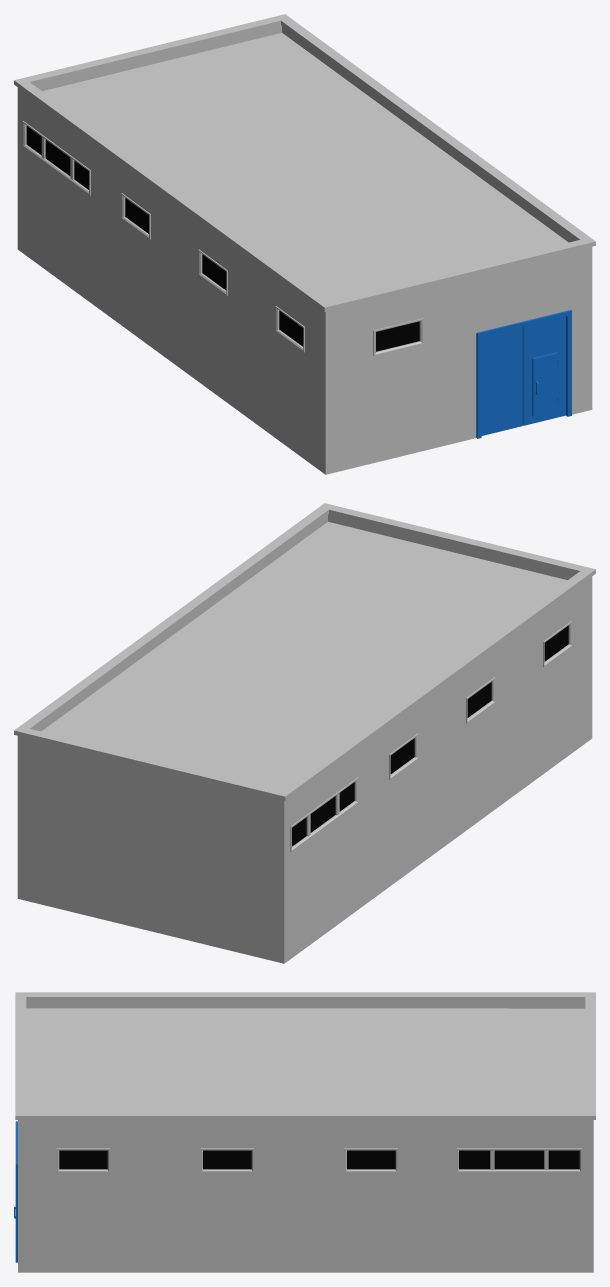
Rendered from SM_transformer_1.fbx.
3 views of the same model, one above another, from view 1: azimuth 30°, elevation 25°; view 2: azimuth 150°, elevation 25°; view 3: azimuth 270°, elevation 25° (orthographic). The views are drawn at different scales.
Visible parts, largest first — view 1: Boole_12, Cylinder_12; view 2: Boole_12; view 3: Boole_12.
Boxes of the visible parts, x1,y1,x2,y2 form: Boole_12: [14, 14, 595, 474]; Cylinder_12: [532, 352, 558, 416]; Boole_12: [14, 503, 595, 963]; Boole_12: [15, 992, 595, 1272].
Size of the model in its own units: 997 by 592 by 1983.
